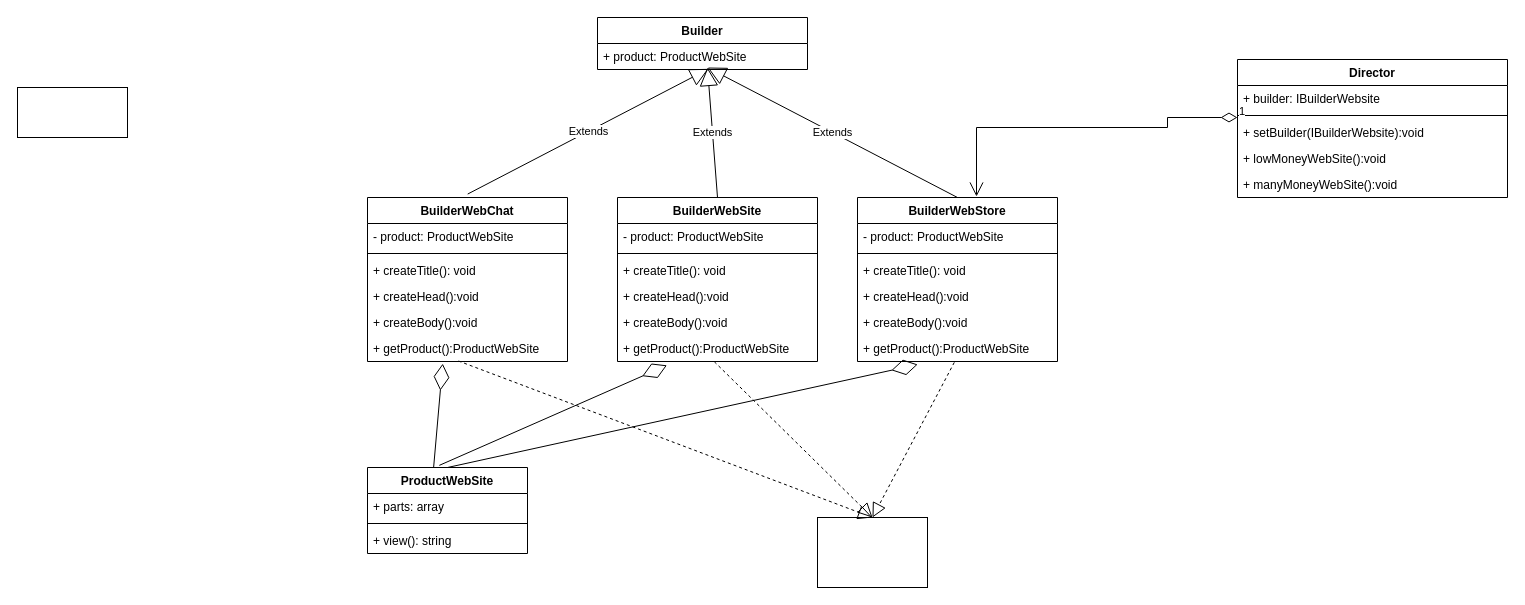
The diagram is 1525 pixels wide and 605 high, and some of its shapes have lost their labels. Each missing label, with the centre of its shape:
Client code: (x=72, y=112)
«interface» IBuilderWebsite: (x=872, y=552)
